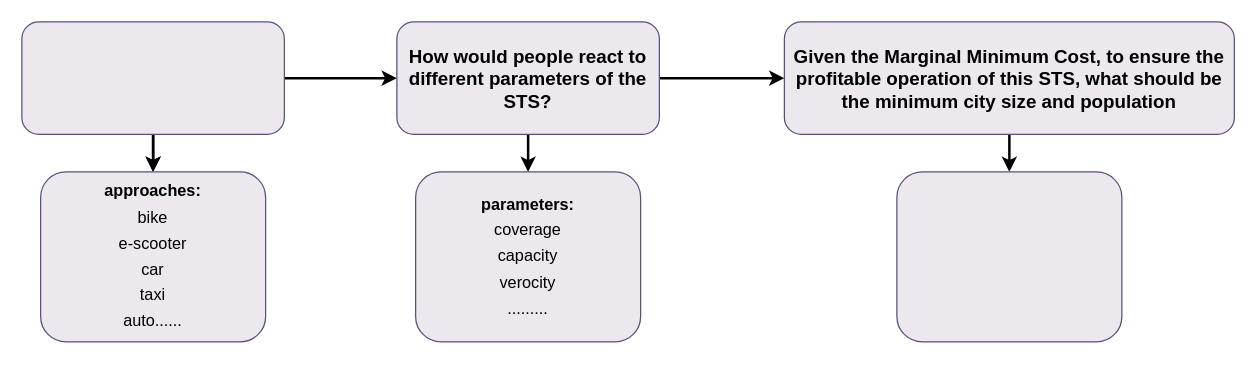
Some shapes in this 1256 by 373 pixel diagram are drawn without their labels. The shapes that lost their labels are listed below. From the top down, each one's centre as x and y in pixels, then its label:
At point (152, 77): "Simulate Shared Transport Systems in motropolis".
At point (1009, 256): "Restriction: city size population commuting flow volume .........".
